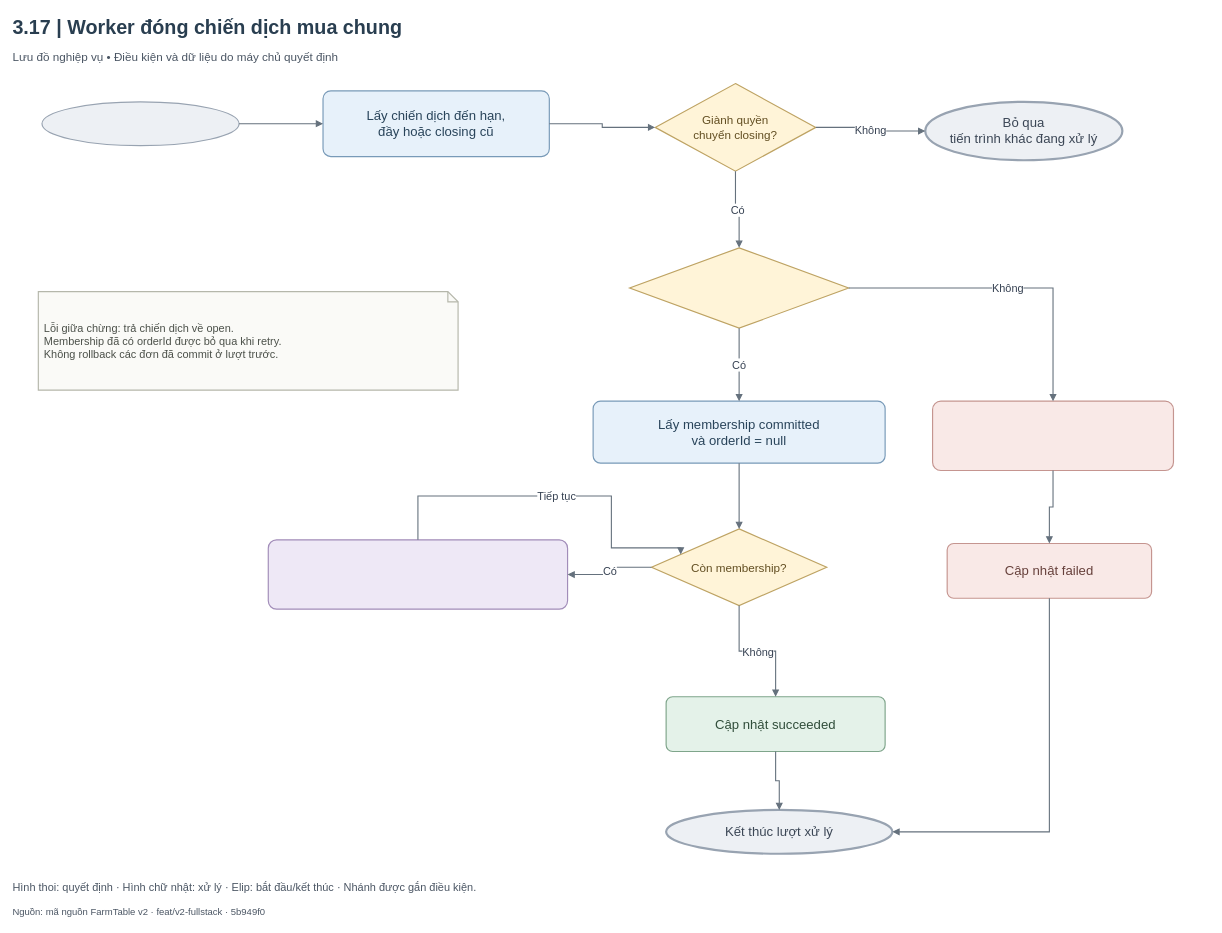
Some shapes in this 1222 by 933 pixel diagram are drawn without their labels. The centre of each missing label's shape, as x and y in pixels:
"joinedQty ≥ targetQty?" goes at (739,287).
"Transaction mỗi membership: đọc lại → tạo COD → gắn orderId" goes at (417,574).
"Transaction: trả reservedStock; membership → released" goes at (1053,435).
"Worker tick / đầy sớm" goes at (140,123).
